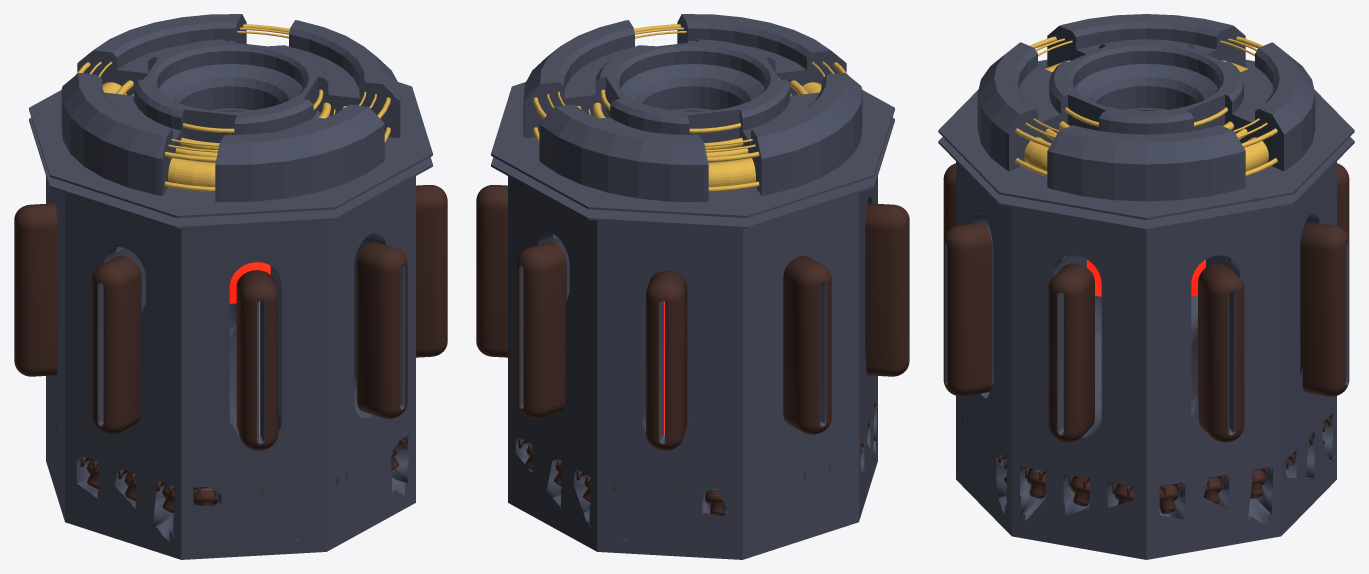
Rendered from furnace.fbx.
The picture shows the model from 3 angles, left to right: view 1: azimuth 30°, elevation 25°; view 2: azimuth 150°, elevation 25°; view 3: azimuth 270°, elevation 25°; orthographic projection.
Parts seen in each view (by area): view 1: Cylinderbevel; view 2: Cylinderbevel; view 3: Cylinderbevel.
Boxes of the visible parts, x1,y1,x2,y2 form: Cylinderbevel: [14, 14, 447, 559]; Cylinderbevel: [476, 14, 909, 559]; Cylinderbevel: [938, 14, 1354, 559].
Size of the model in its own units: 200 by 213 by 200.
